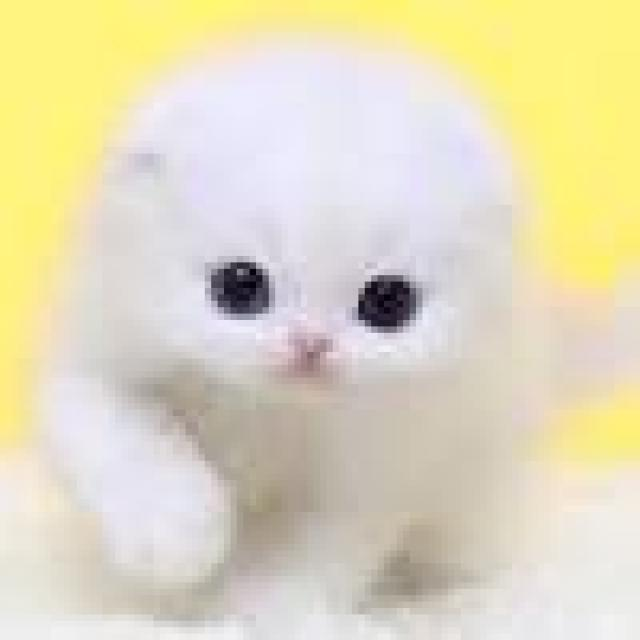cat-face: (102, 42, 588, 409)
